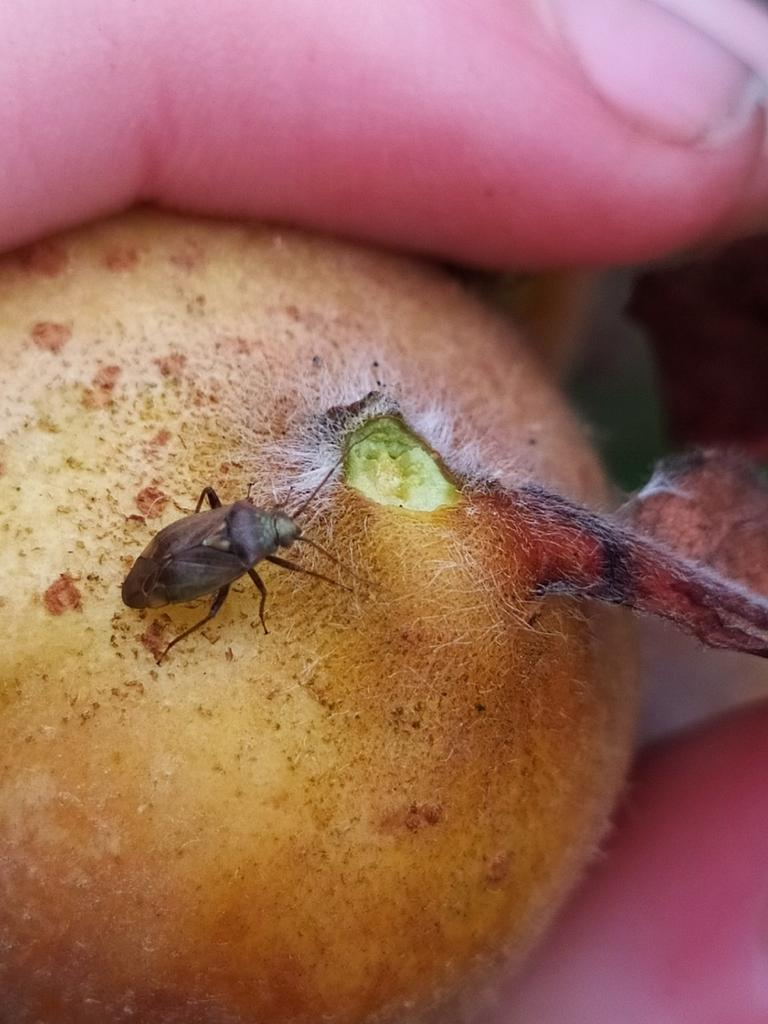plant_bugs: (67, 441, 388, 689)
